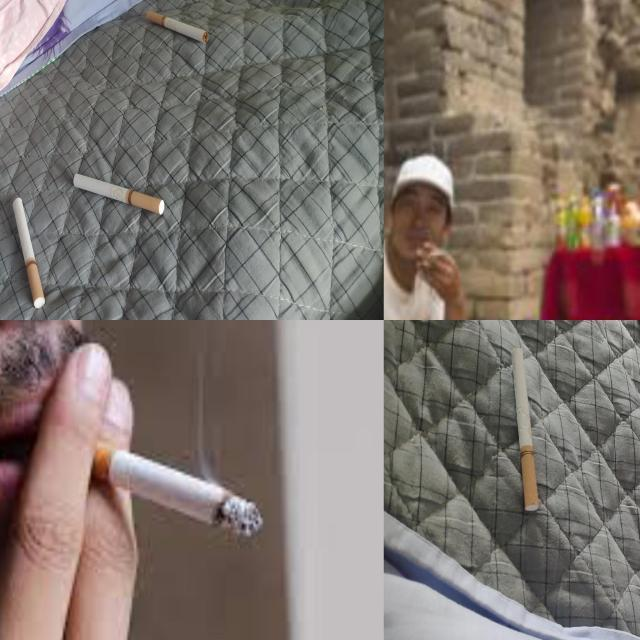smoking: (44, 426, 265, 538), (511, 347, 540, 511), (73, 172, 166, 216), (12, 196, 46, 310), (146, 10, 209, 44)
